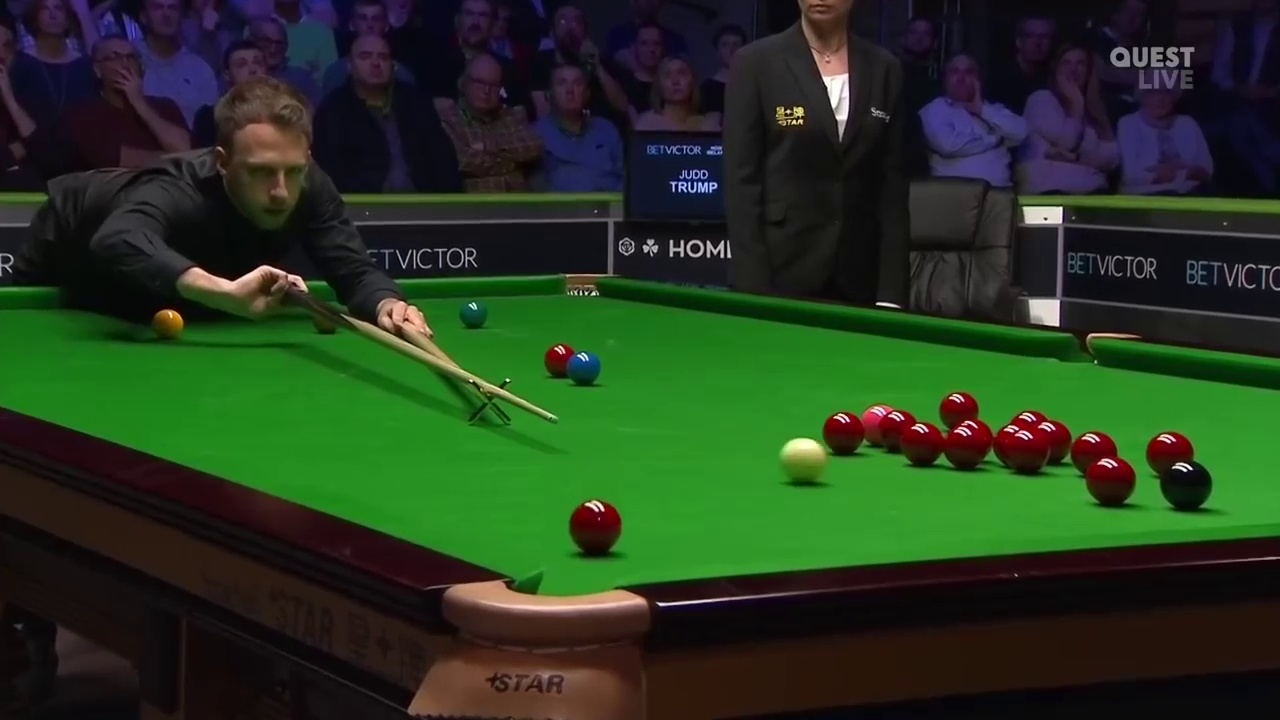black: (1166, 461, 1211, 509)
blue: (565, 353, 600, 385)
green: (457, 299, 487, 329)
red: (567, 499, 622, 549), (1086, 457, 1135, 504), (900, 421, 942, 467), (1007, 431, 1051, 471), (824, 411, 863, 452)
white: (781, 438, 827, 480)
yellow: (154, 307, 183, 339)
